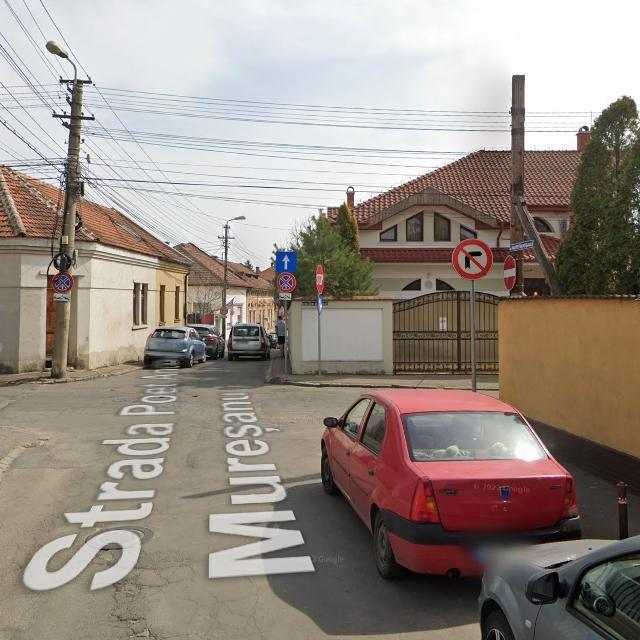forb_waiting: (53, 272, 74, 293), (277, 272, 296, 292)
